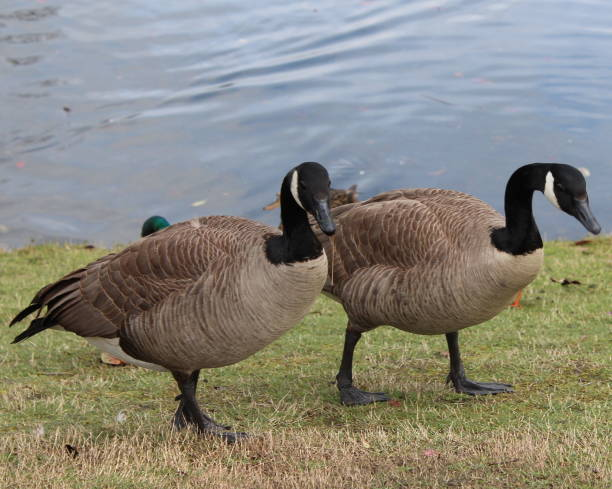goose: (8, 159, 337, 439), (284, 160, 603, 411)
